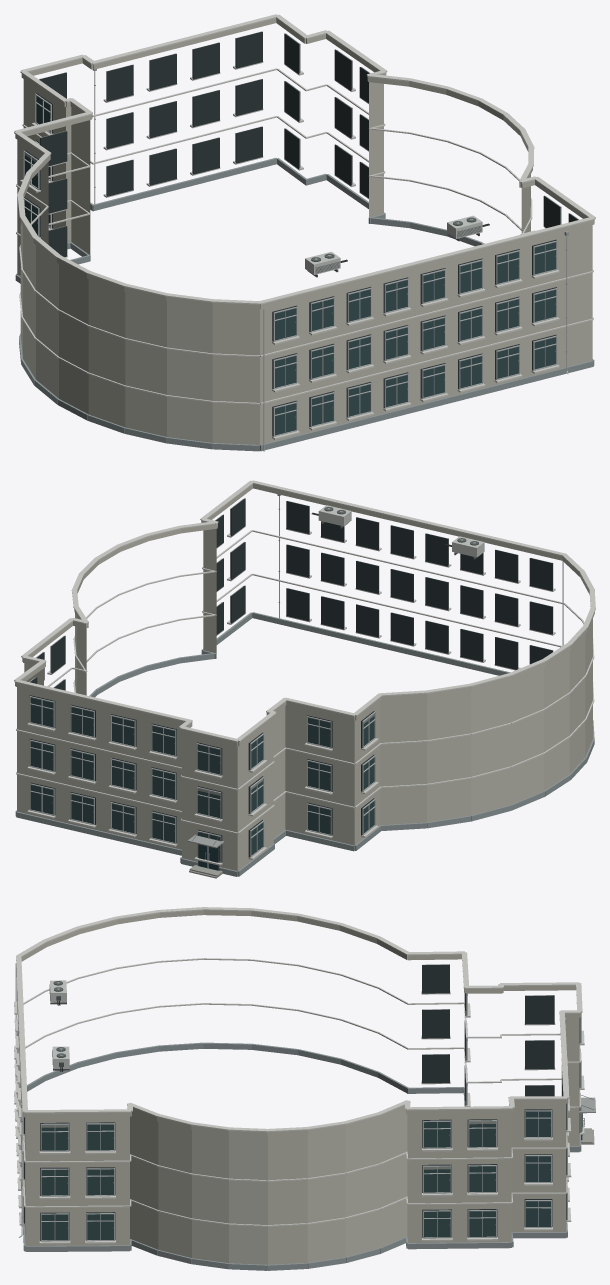
The model's file is osm_way_1390009975.glb.
3 views of the same model, one above another, from view 1: azimuth 30°, elevation 25°; view 2: azimuth 150°, elevation 25°; view 3: azimuth 270°, elevation 25° (orthographic). The views are drawn at different scales.
Parts seen in each view (by area): view 1: Architecture | 南邮仙林一食堂, Windows and facade details | 南邮仙林一食堂, Roof services | 南邮仙林一食堂, EXTERIOR::osm_way_1390009975::rainwater and roof service det; view 2: Architecture | 南邮仙林一食堂, Windows and facade details | 南邮仙林一食堂, Roof services | 南邮仙林一食堂, EXTERIOR::osm_way_1390009975::rainwater and roof service det, EXTERIOR::osm_way_1390009975::inferred entry doors canopy an; view 3: Architecture | 南邮仙林一食堂, Windows and facade details | 南邮仙林一食堂, Roof services | 南邮仙林一食堂, EXTERIOR::osm_way_1390009975::rainwater and roof service det, EXTERIOR::osm_way_1390009975::inferred entry doors canopy an.
Part boxes in pixels (left/top/right/bottom): Architecture | 南邮仙林一食堂: left=15, top=18, right=594, bottom=451; Windows and facade details | 南邮仙林一食堂: left=20, top=31, right=579, bottom=451; Roof services | 南邮仙林一食堂: left=14, top=14, right=595, bottom=304; EXTERIOR::osm_way_1390009975::rainwater and roof service det: left=92, top=69, right=568, bottom=374; Architecture | 南邮仙林一食堂: left=15, top=484, right=594, bottom=876; Windows and facade details | 南邮仙林一食堂: left=27, top=498, right=563, bottom=865; Roof services | 南邮仙林一食堂: left=14, top=480, right=595, bottom=742; EXTERIOR::osm_way_1390009975::rainwater and roof service det: left=277, top=494, right=484, bottom=618; EXTERIOR::osm_way_1390009975::inferred entry doors canopy an: left=187, top=832, right=224, bottom=878; Architecture | 南邮仙林一食堂: left=21, top=910, right=581, bottom=1270; Windows and facade details | 南邮仙林一食堂: left=14, top=963, right=584, bottom=1244; Roof services | 南邮仙林一食堂: left=16, top=907, right=582, bottom=1132; EXTERIOR::osm_way_1390009975::rainwater and roof service det: left=19, top=980, right=566, bottom=1237; EXTERIOR::osm_way_1390009975::inferred entry doors canopy an: left=579, top=1095, right=595, bottom=1144.
Size of the model in its own units: 44.99 by 13.98 by 49.36.
